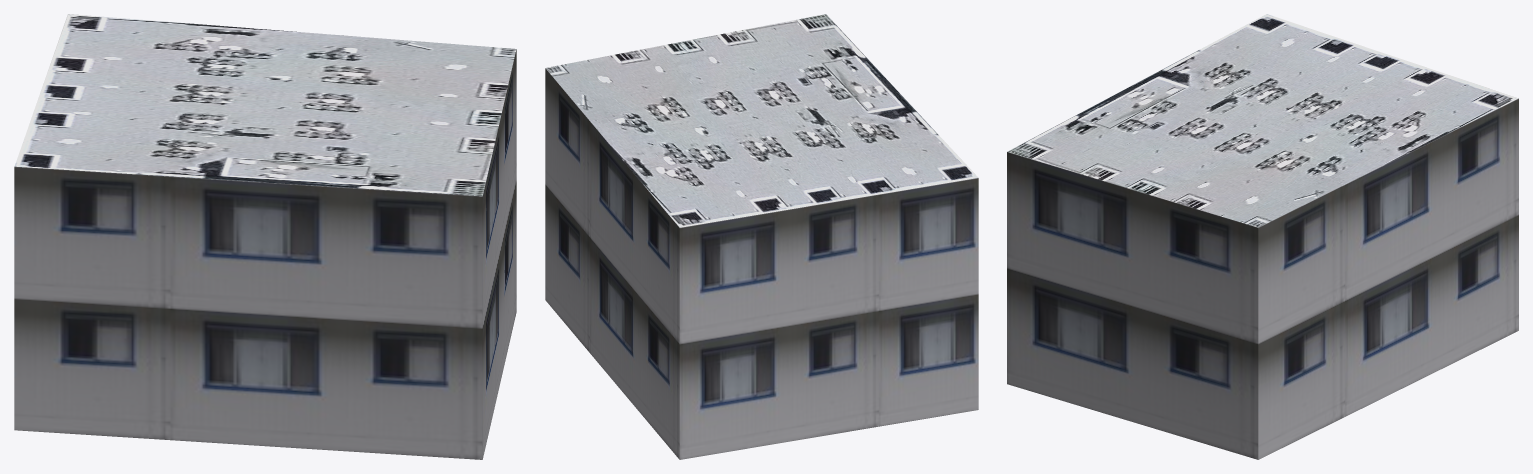
Rendered from ResTex__2175.fbx.
3 renders of one model, left to right at view 1: azimuth 30°, elevation 25°; view 2: azimuth 150°, elevation 25°; view 3: azimuth 270°, elevation 25°, orthographic. The views are drawn at different scales.
Visible parts, largest first — view 1: CityEngineMaterial_9_m, CityEngineMaterial_4_m; view 2: CityEngineMaterial_9_m, CityEngineMaterial_4_m; view 3: CityEngineMaterial_9_m, CityEngineMaterial_4_m.
Part boxes in pixels (bbox=[...]): CityEngineMaterial_9_m: bbox=[14, 49, 516, 459]; CityEngineMaterial_4_m: bbox=[14, 14, 516, 196]; CityEngineMaterial_9_m: bbox=[545, 68, 978, 459]; CityEngineMaterial_4_m: bbox=[545, 14, 978, 227]; CityEngineMaterial_9_m: bbox=[1007, 98, 1518, 459]; CityEngineMaterial_4_m: bbox=[1007, 14, 1518, 227].
Size of the model in its own units: 11.84 by 6 by 11.99.
Materials: 2 (2 with a texture image).
